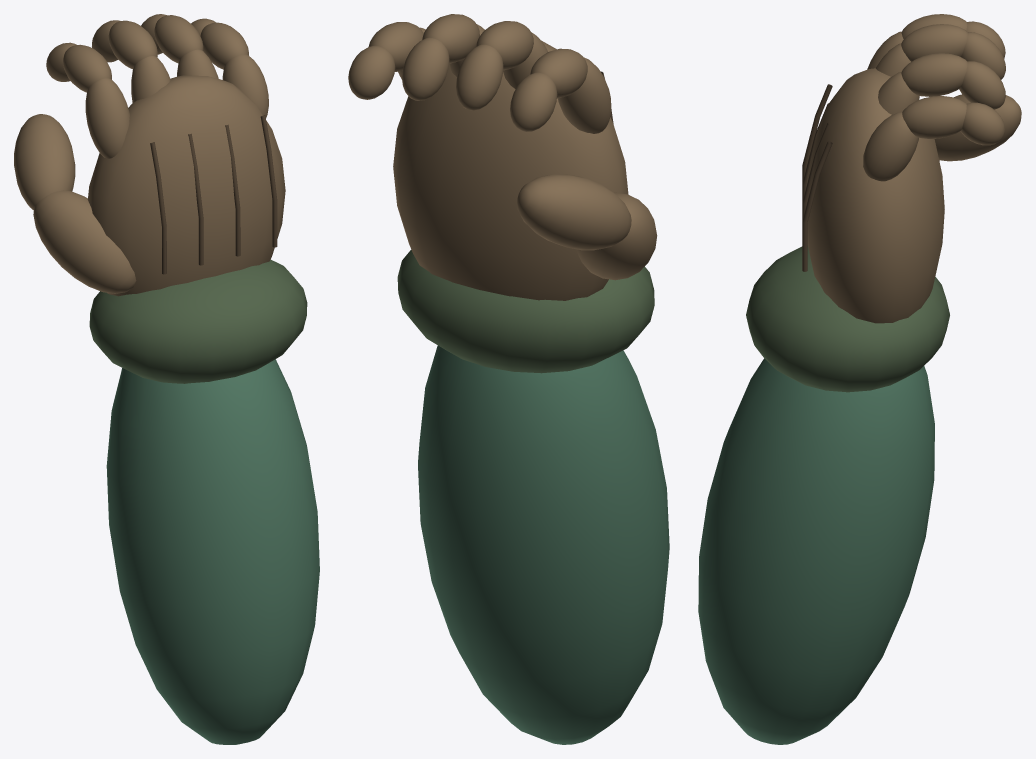
File: ranger_hand.glb
3 views of the same model, side by side, from view 1: azimuth 30°, elevation 25°; view 2: azimuth 150°, elevation 25°; view 3: azimuth 270°, elevation 25° (orthographic). The views are drawn at different scales.
Visible parts, largest first — view 1: Ranger glove and sleeve; view 2: Ranger glove and sleeve; view 3: Ranger glove and sleeve.
Boxes of the visible parts, box(x1,y1,x2,y2) form: Ranger glove and sleeve: box(14, 14, 319, 744); Ranger glove and sleeve: box(348, 14, 669, 744); Ranger glove and sleeve: box(698, 14, 1021, 744).
Size of the model in its own units: 0.1557 by 0.432 by 0.1804.
